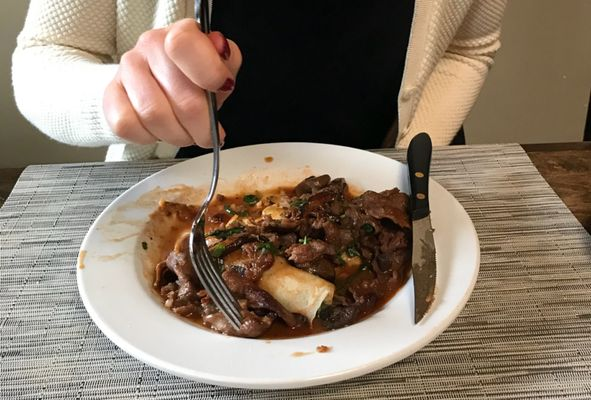sandwich: (408, 132, 434, 327)
